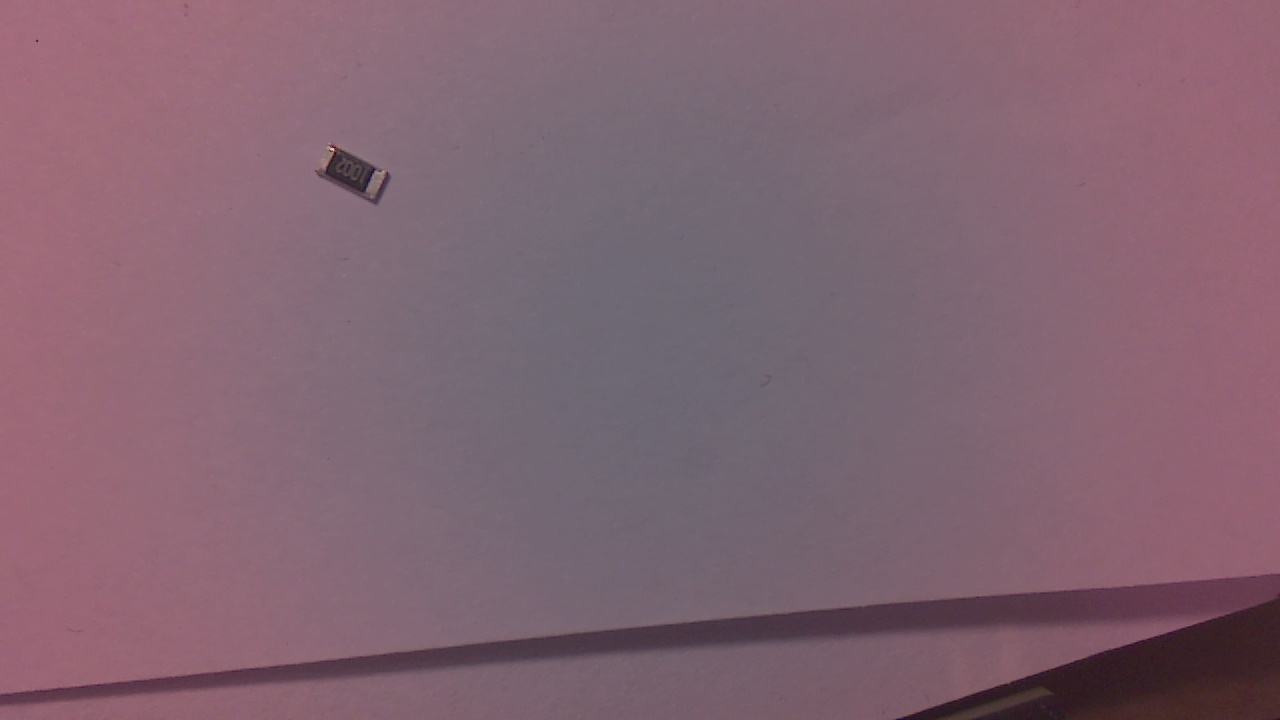Resistor: (320, 150, 399, 209)
